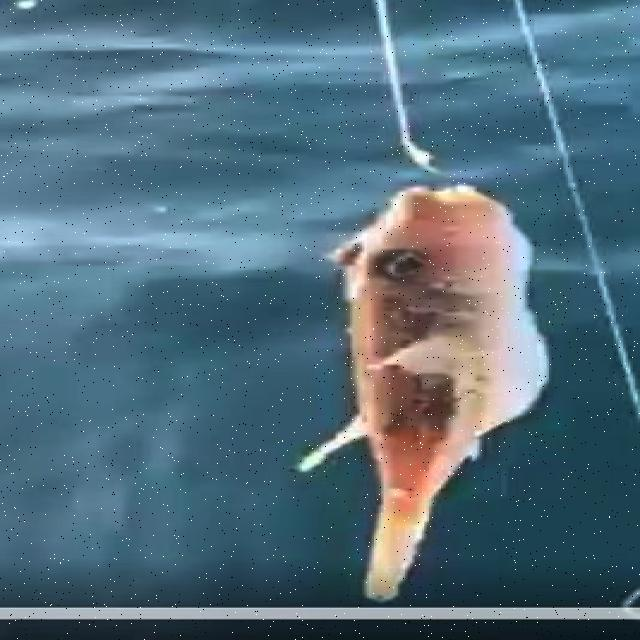Balik: (300, 186, 548, 600)
